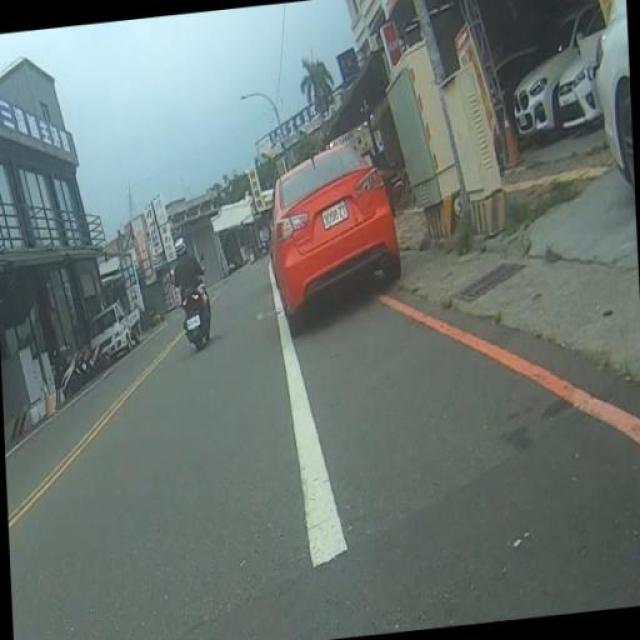Legalparking: (264, 118, 414, 348)
